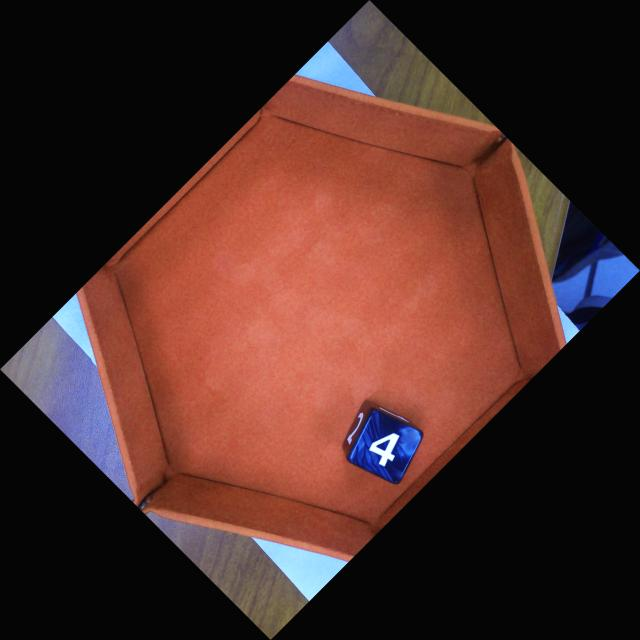dice: (350, 411, 422, 485)
